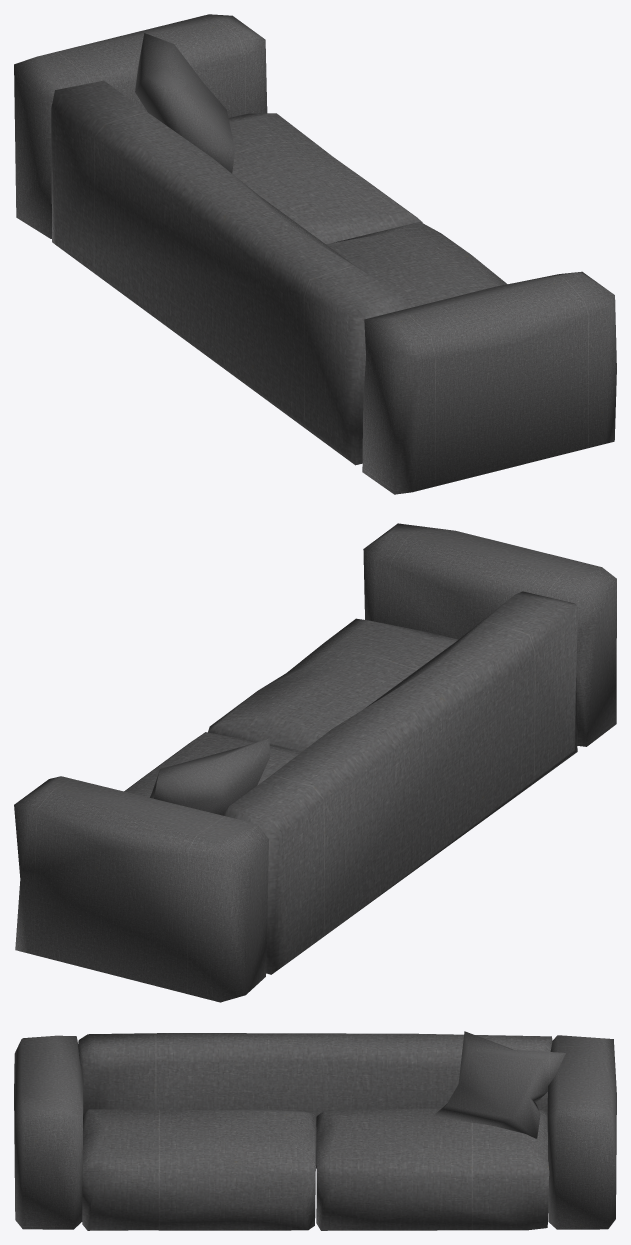
The model's file is chair4.fbx.
3 views of the same model, one above another, from view 1: azimuth 30°, elevation 25°; view 2: azimuth 150°, elevation 25°; view 3: azimuth 270°, elevation 25° (orthographic). The views are drawn at different scales.
Parts seen in each view (by area): view 1: Leather Sofa; view 2: Leather Sofa; view 3: Leather Sofa.
Part boxes in pixels (x1,y1,x2,y2): Leather Sofa: [14, 14, 616, 494]; Leather Sofa: [14, 523, 616, 1002]; Leather Sofa: [14, 1031, 616, 1230].
Size of the model in its own units: 1.05 by 0.7904 by 3.08.
1 material, 1 textured.
